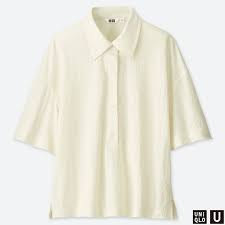C_polo shirt: (23, 7, 197, 216)
